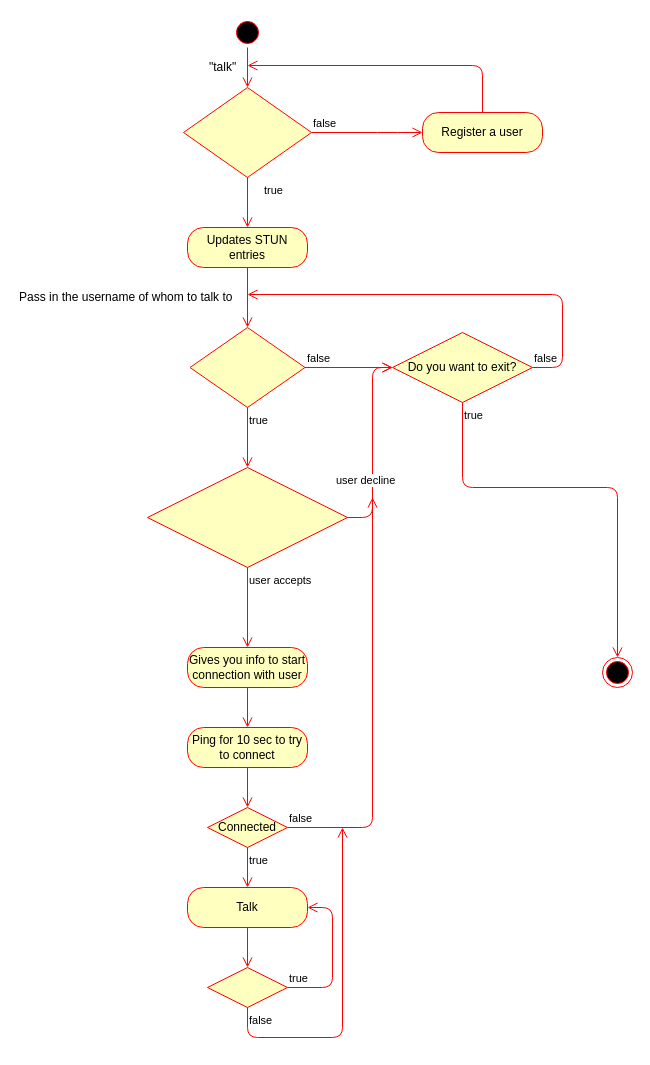
The diagram is 650 pixels wide and 1065 high, and some of its shapes have lost their labels. The centre of each missing label's shape, as x and y in pixels:
"Has user on Lobby server" goes at (x=247, y=132).
"Is user available" goes at (x=247, y=367).
"Lobby ask user if they accept connection" goes at (x=247, y=517).
"Talk more?" goes at (x=247, y=987).
